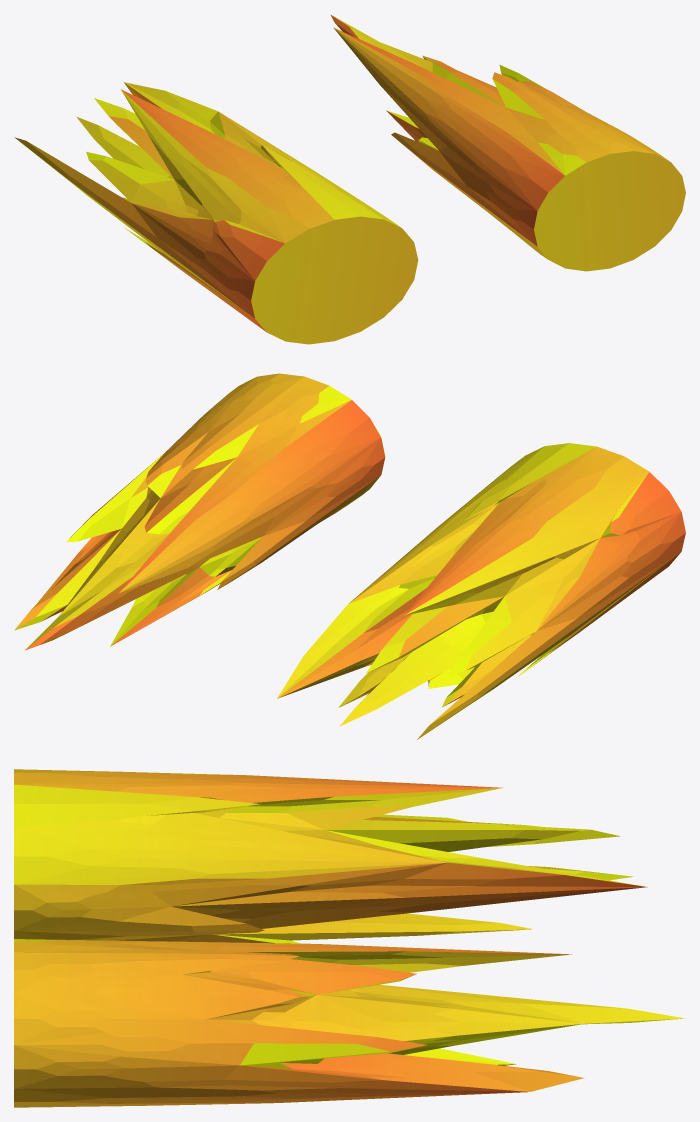
Rendered from car-flames.obj.
3 views of the same model, one above another, from view 1: azimuth 30°, elevation 25°; view 2: azimuth 150°, elevation 25°; view 3: azimuth 270°, elevation 25° (orthographic). The views are drawn at different scales.
Visible parts, largest first — view 1: Flames; view 2: Flames; view 3: Flames.
Part boxes in pixels (bbox=[...]): Flames: bbox=[14, 15, 685, 344]; Flames: bbox=[14, 373, 685, 739]; Flames: bbox=[14, 769, 685, 1107].
Bounding box in the file's own units: 1.93 × 0.5139 × 2.08.
